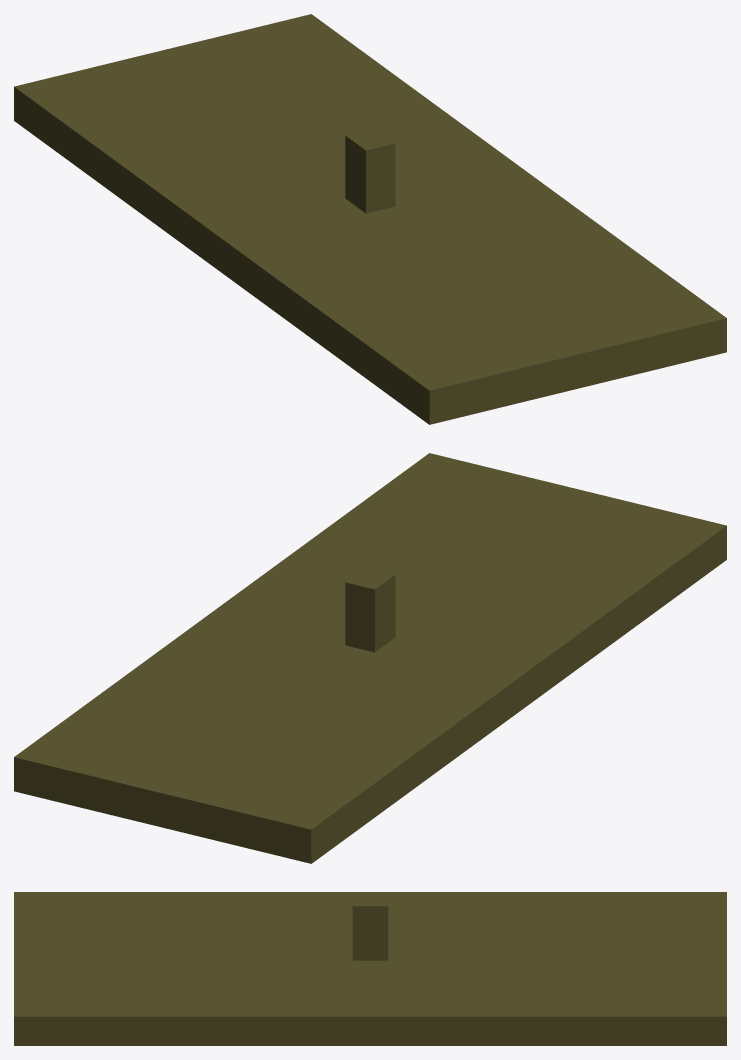
The model's file is activador reliquia3.fbx.
The picture shows the model from 3 angles, top to bottom: view 1: azimuth 30°, elevation 25°; view 2: azimuth 150°, elevation 25°; view 3: azimuth 270°, elevation 25°; orthographic projection. The views are drawn at different scales.
Parts seen in each view (by area): view 1: Cube.005; view 2: Cube.005; view 3: Cube.005.
Boxes of the visible parts, x1=… form: Cube.005: x1=14, y1=14, x2=726, y2=424; Cube.005: x1=14, y1=453, x2=726, y2=863; Cube.005: x1=14, y1=892, x2=726, y2=1045.
Size of the model in its own units: 49.96 by 15.61 by 121.
